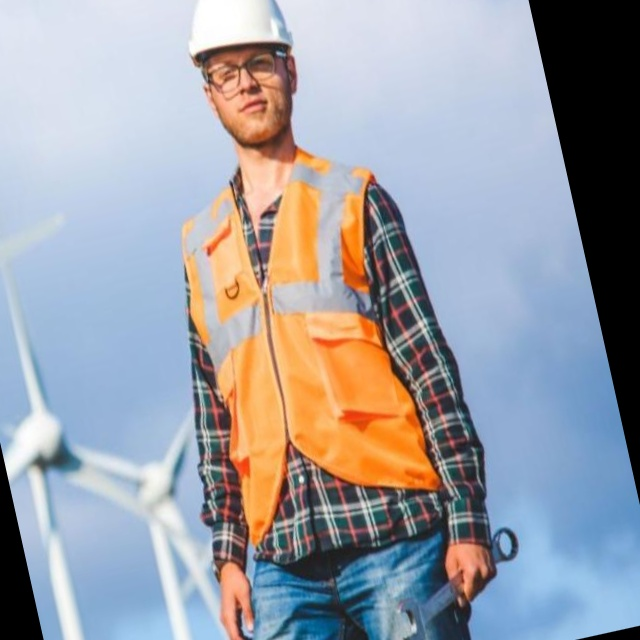Con_Casco: (172, 0, 314, 159)
Con_Chaleco: (156, 134, 446, 551)
